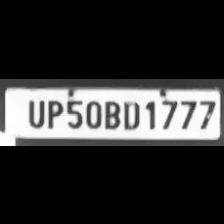0: (84, 96, 103, 128)
1: (141, 96, 158, 130)
5: (63, 96, 83, 128)
7: (194, 96, 216, 130), (157, 96, 177, 130), (176, 97, 196, 129)
B: (102, 97, 122, 129)
D: (120, 96, 142, 130)
P: (43, 96, 62, 128)
U: (24, 96, 46, 128)
